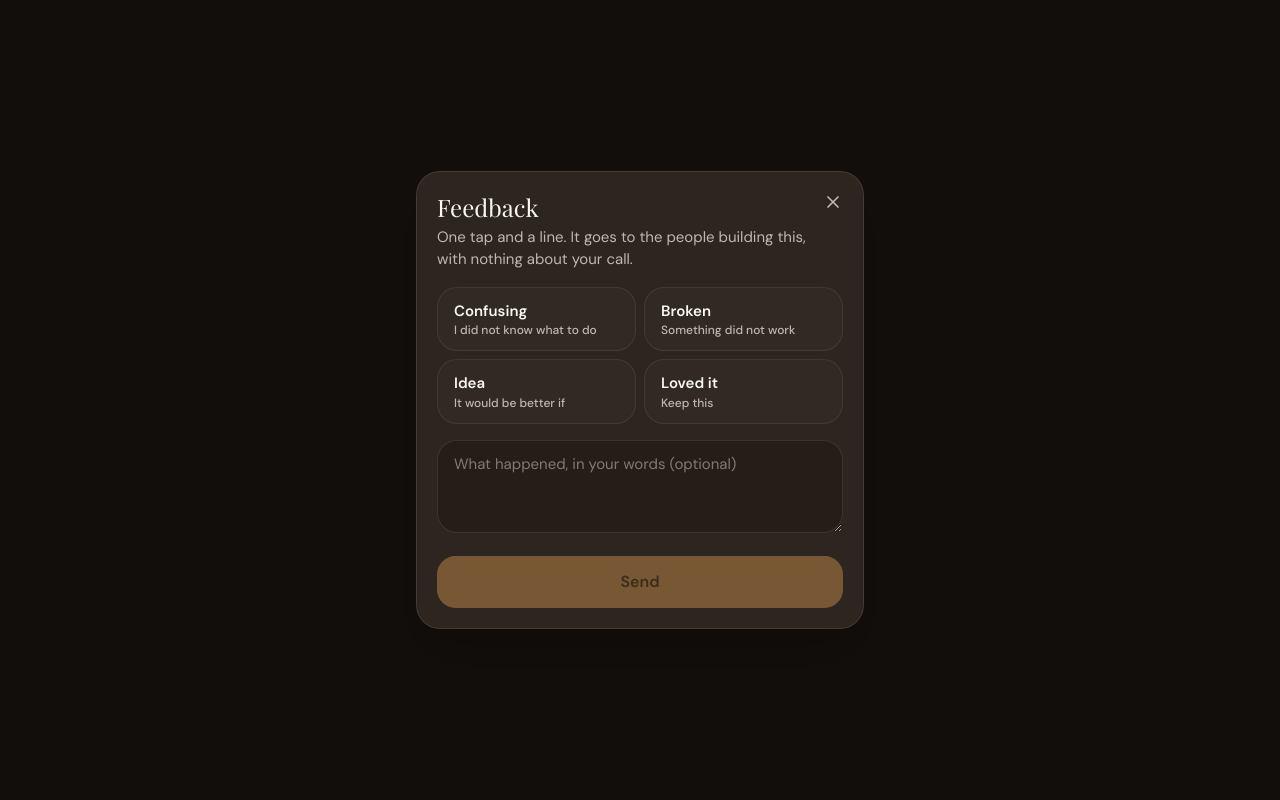
Test: TellUsSheet › needs a kind, sends surface and activity, says thanks
This screenshot has width=1280, height=800.
Expected: the button "Send" is disabled, [437,556,843,608]
Click the button "Confusing I did not know what to do": (536,319) [437,287,636,351]
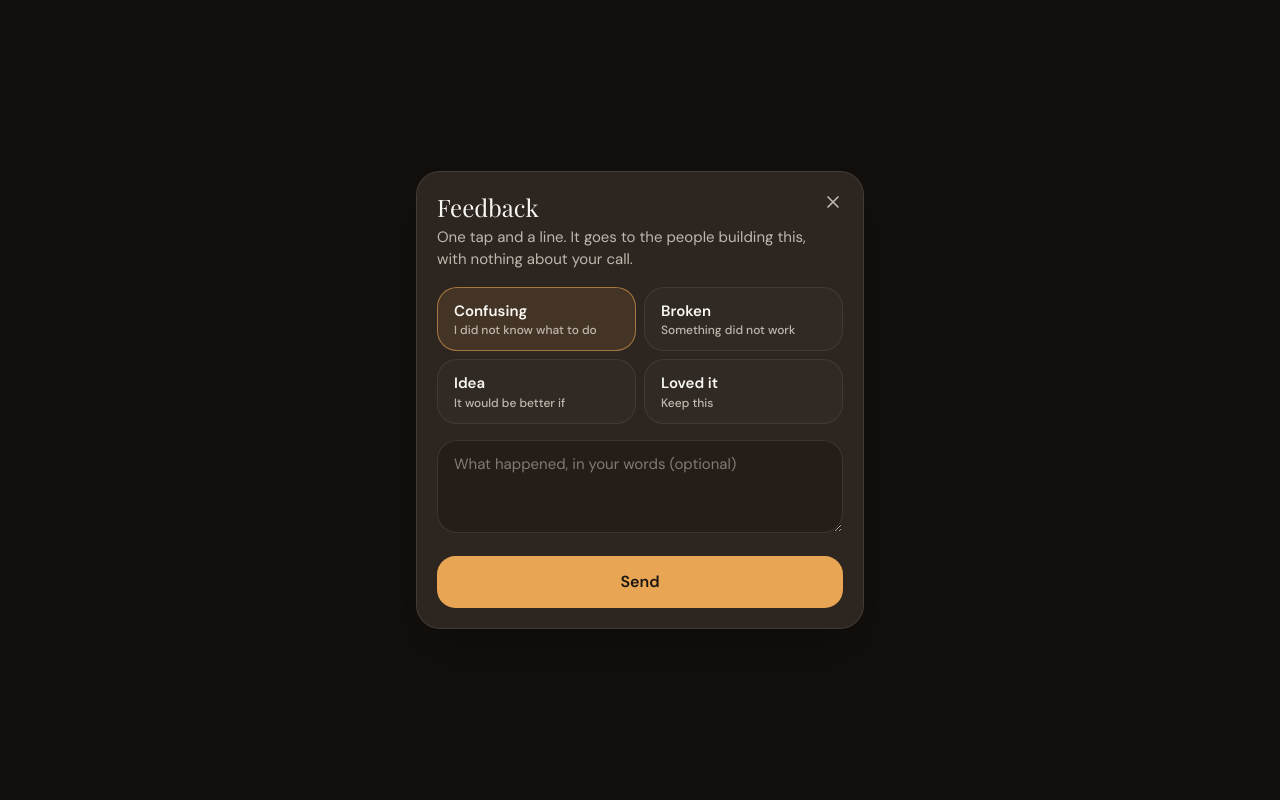
In the text box with placeholder "What happened, in your words (optional)": (640,487) [437,440,843,533], type "I did not know I had to pick first"
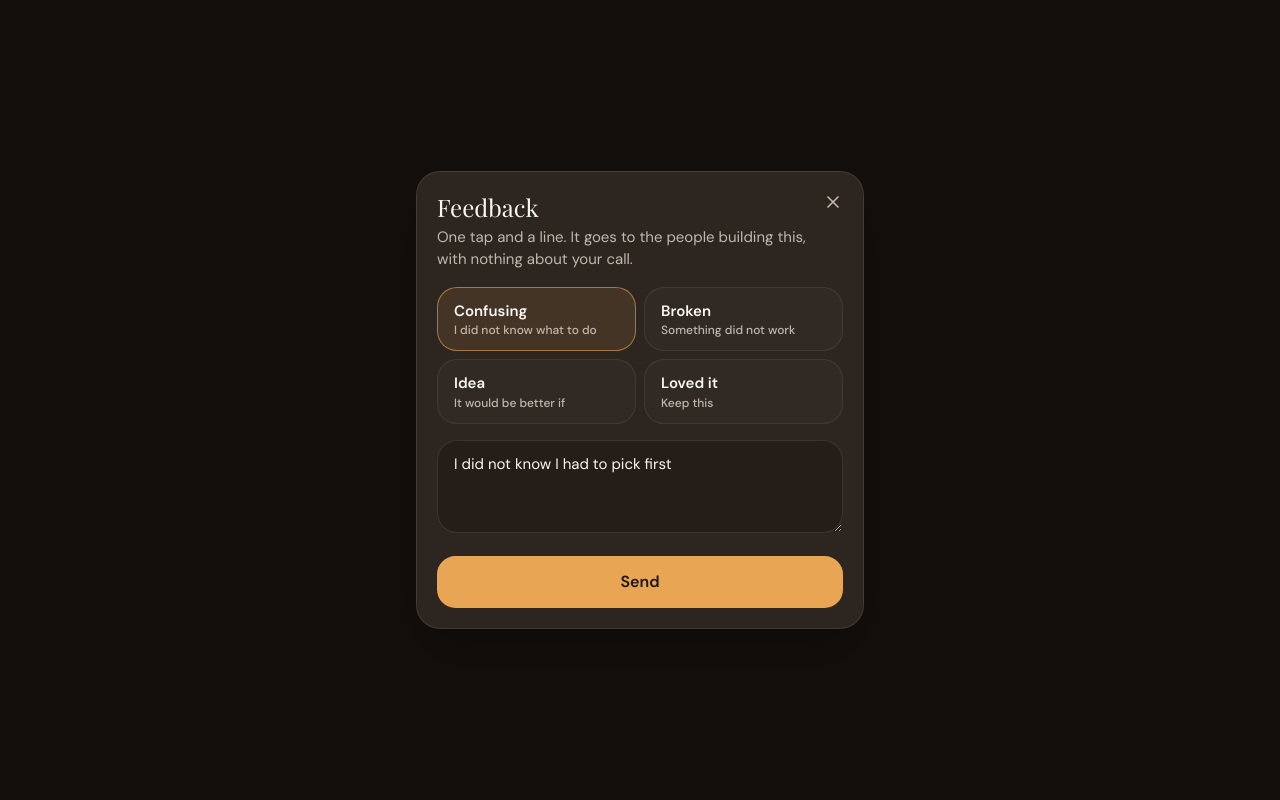
Click the button "Send": (640,582) [437,556,843,608]
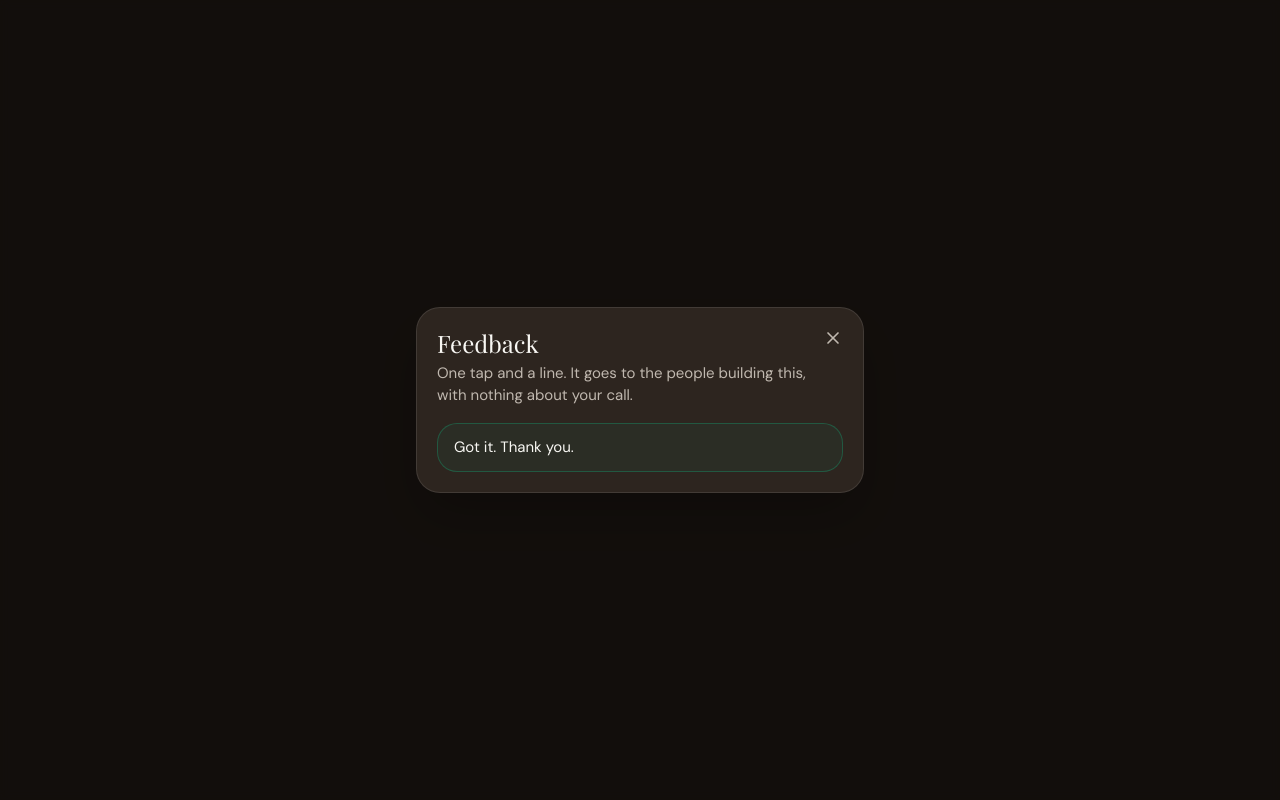
Expected: the text "Got it. Thank you." is shown, [437,423,843,472]
